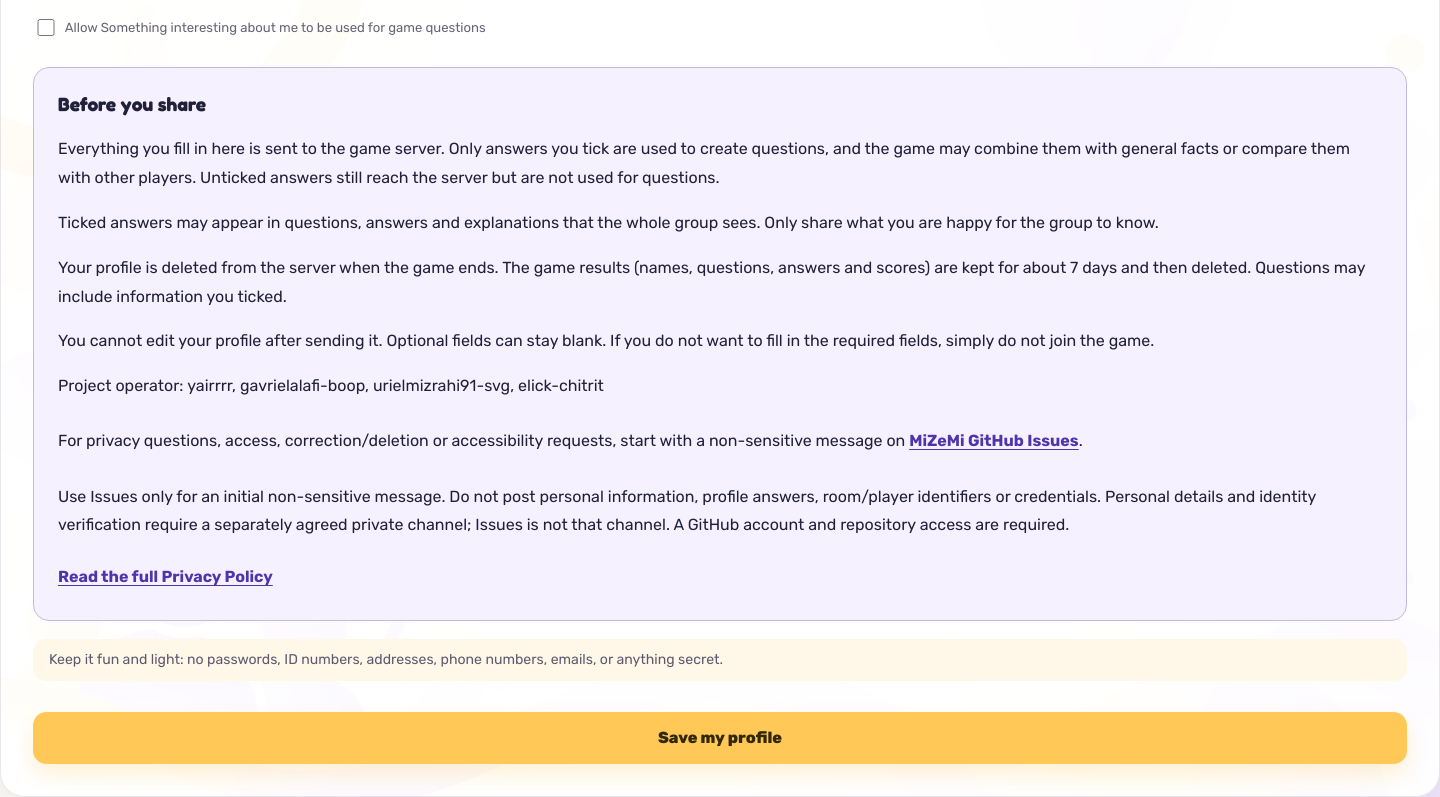
Test: ProfileForm › shows a validation message and does not send an incomplete profile
The width and height of the screenshot is (1440, 797).
(page scrolled)
Click the button "Save my profile".
click(720, 738)  # box [33,712,1407,764]
(page scrolled)
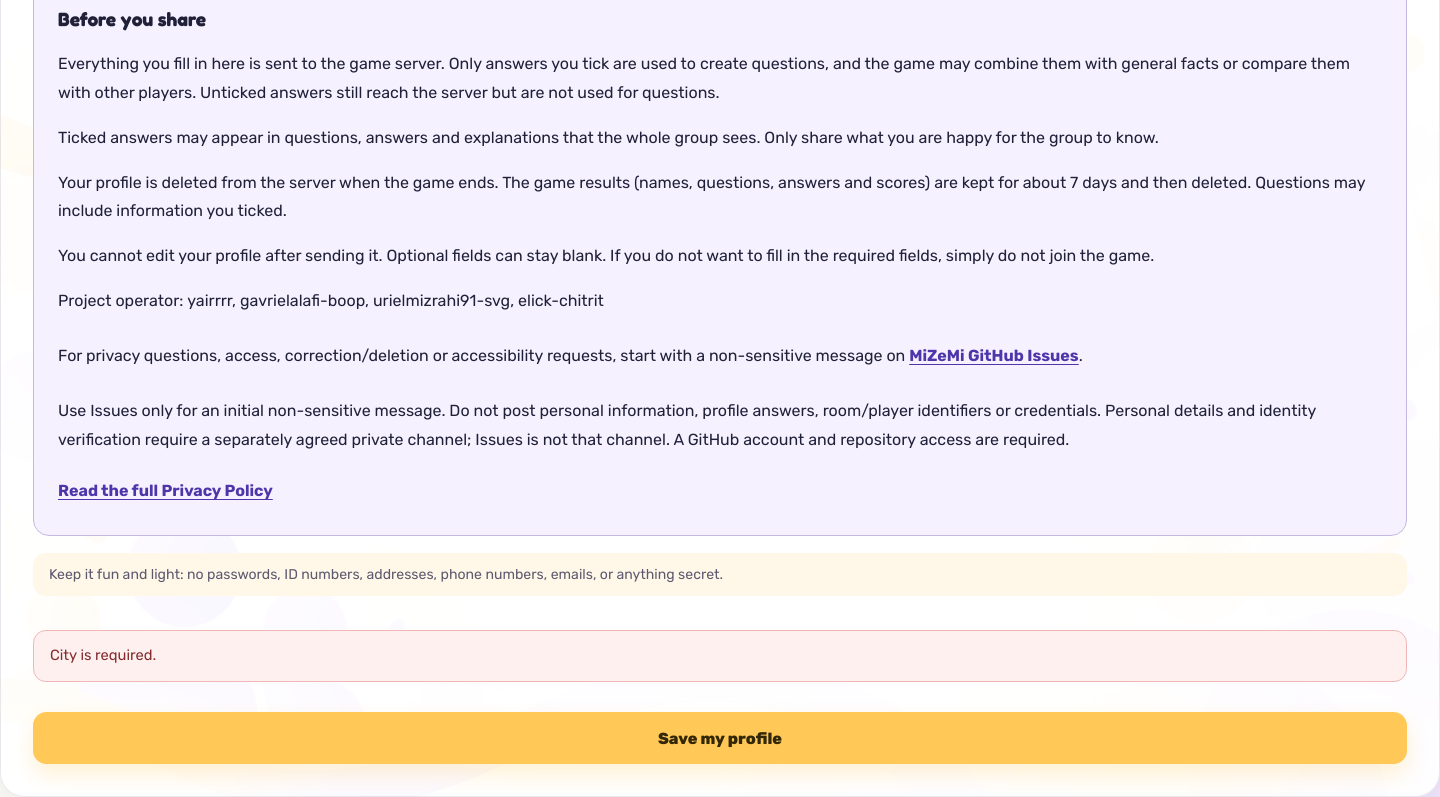
Now the message reads "City is required.", box [50,646,156,664]
